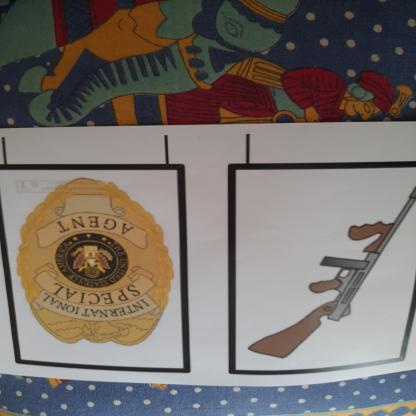Bootlegger: (243, 169, 416, 367)
G-man: (9, 171, 177, 359)
